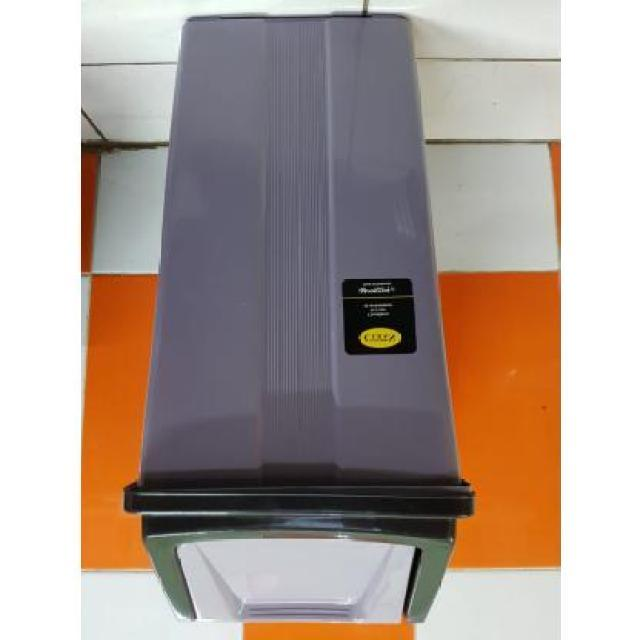garbage container: (118, 2, 487, 633)
